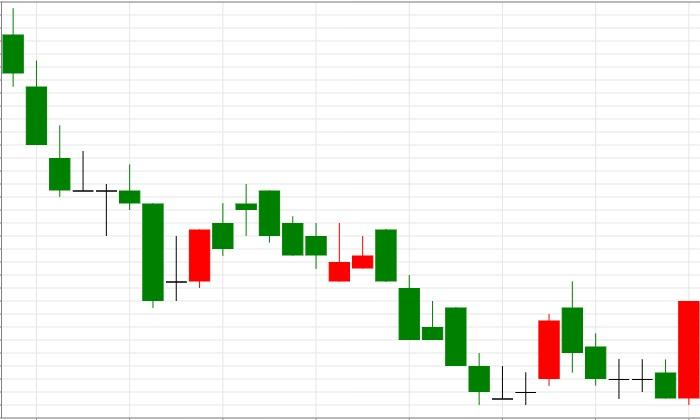bullish_engulfing_rise: (561, 281, 700, 405)
inverse_hammer_rise: (235, 184, 351, 283)
morning_star_rise: (2, 7, 211, 309)
